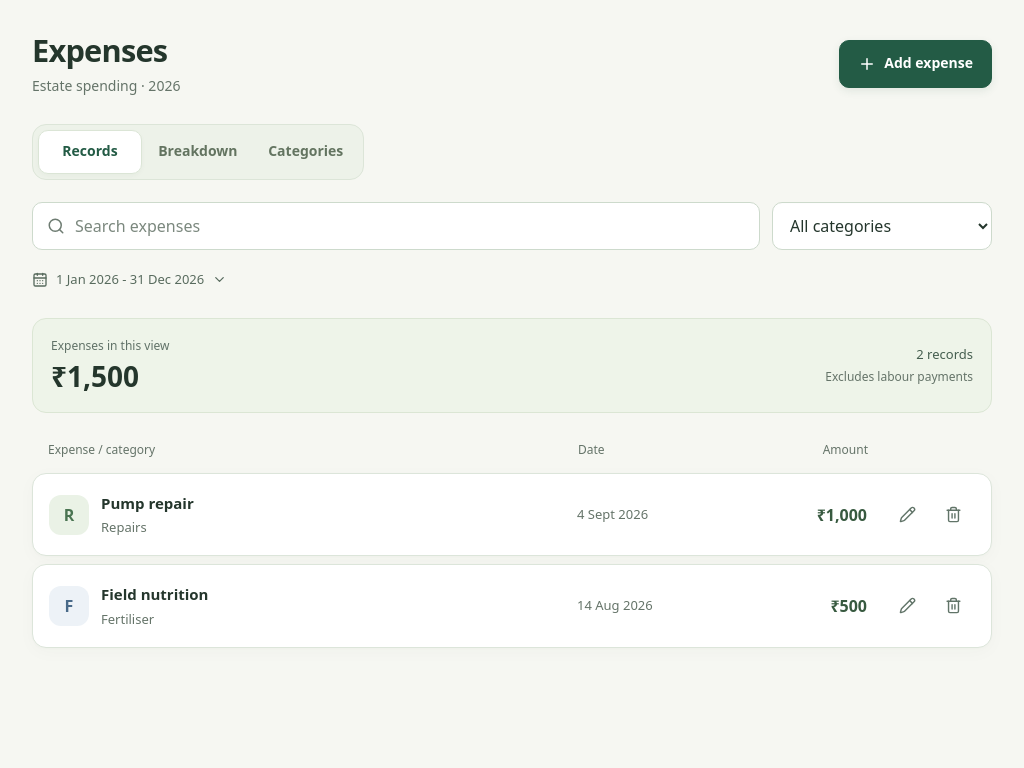
Test: expense workspace › shows records next to search, with no entry form until Add expense is pressed
The image size is (1024, 768).
Expected: the heading "Pump repair" is shown, [101,492,194,514]
Expected: the field labelled "Amount (₹)" is not shown
Click the button "Add expense".
click(916, 64)  # box [839,40,992,88]
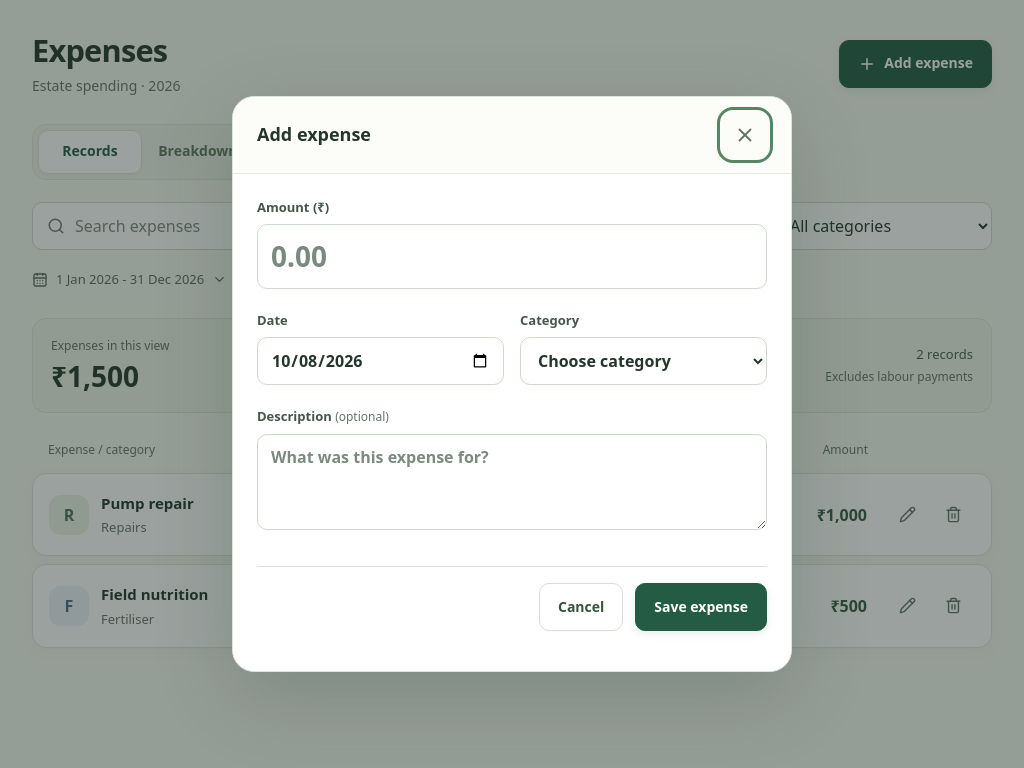
Result: the dialog "Add expense" is shown at [232,96,792,672]
Click the button "Cancel".
click(581, 607)  # box [539,583,623,631]
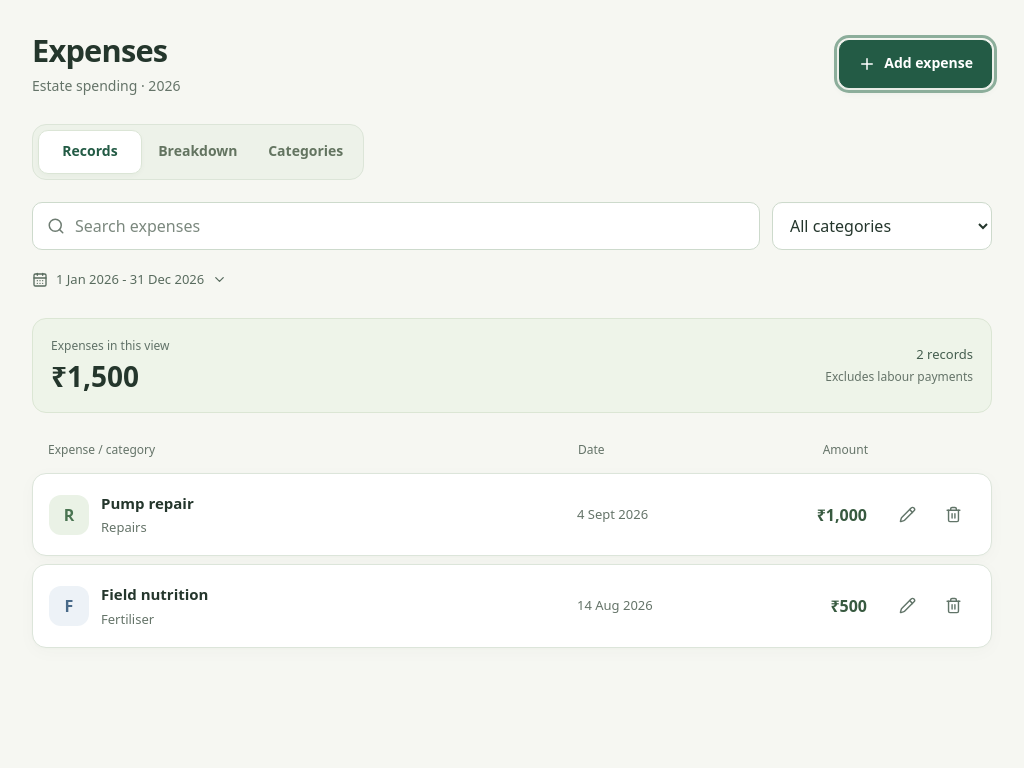
Result: the dialog is gone
